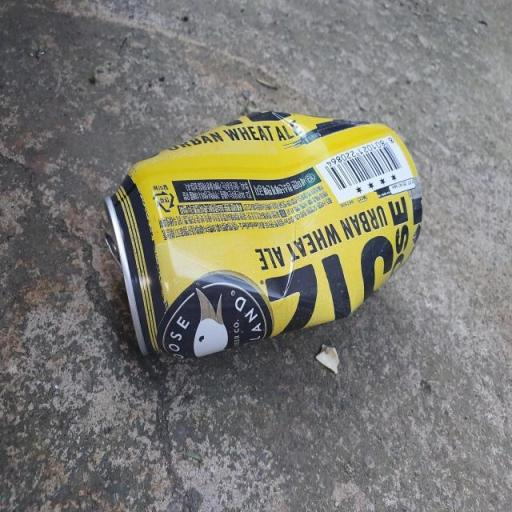metal: (95, 94, 431, 384)
